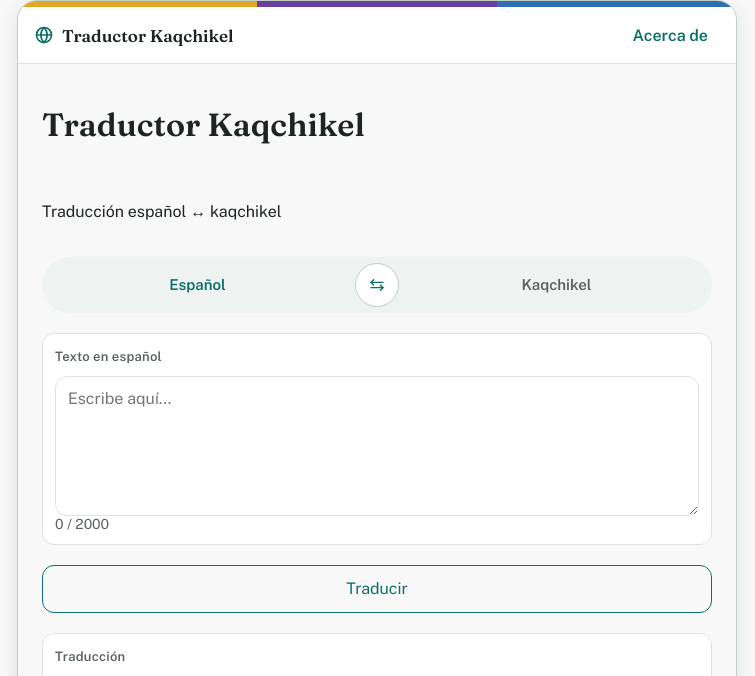
it: App translate flow › shows a 'text' error message for a 4xx response
In the text box named "Texto en ": (377, 446) [55,376,699,516], type "Hola"
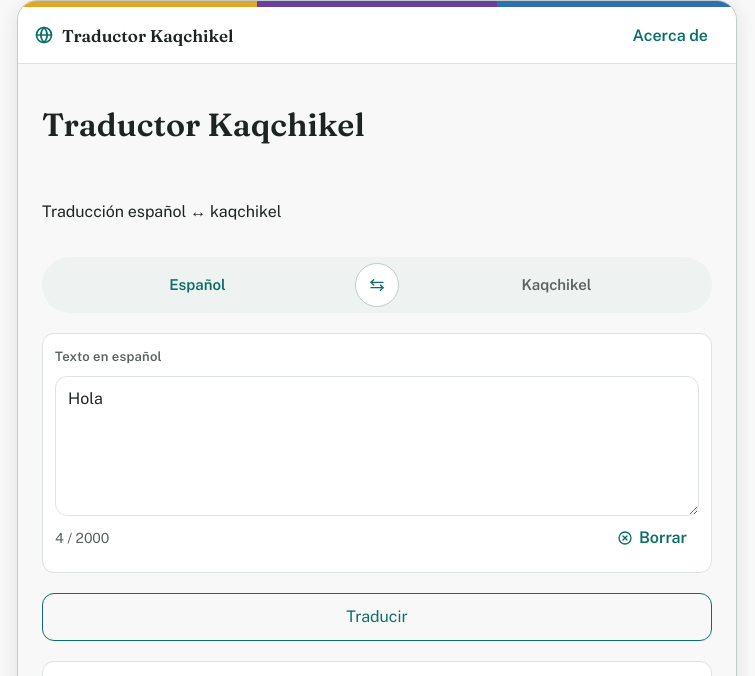
Click the button "Traducir": (377, 617) [42,593,712,641]
(page scrolled)
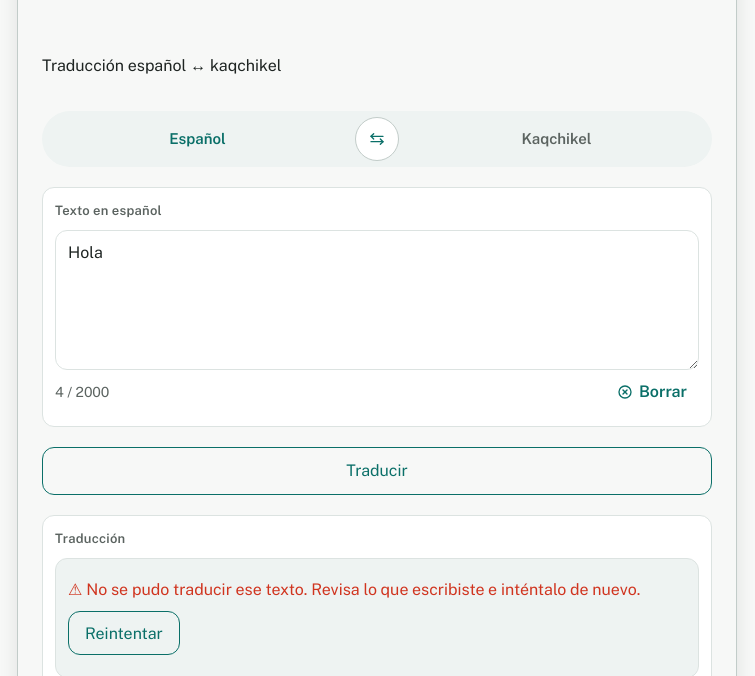
Result: the text "No se pudo traducir ese texto. Revisa lo que escribiste e inténtalo de nuevo." is shown at [86,580,640,599]
